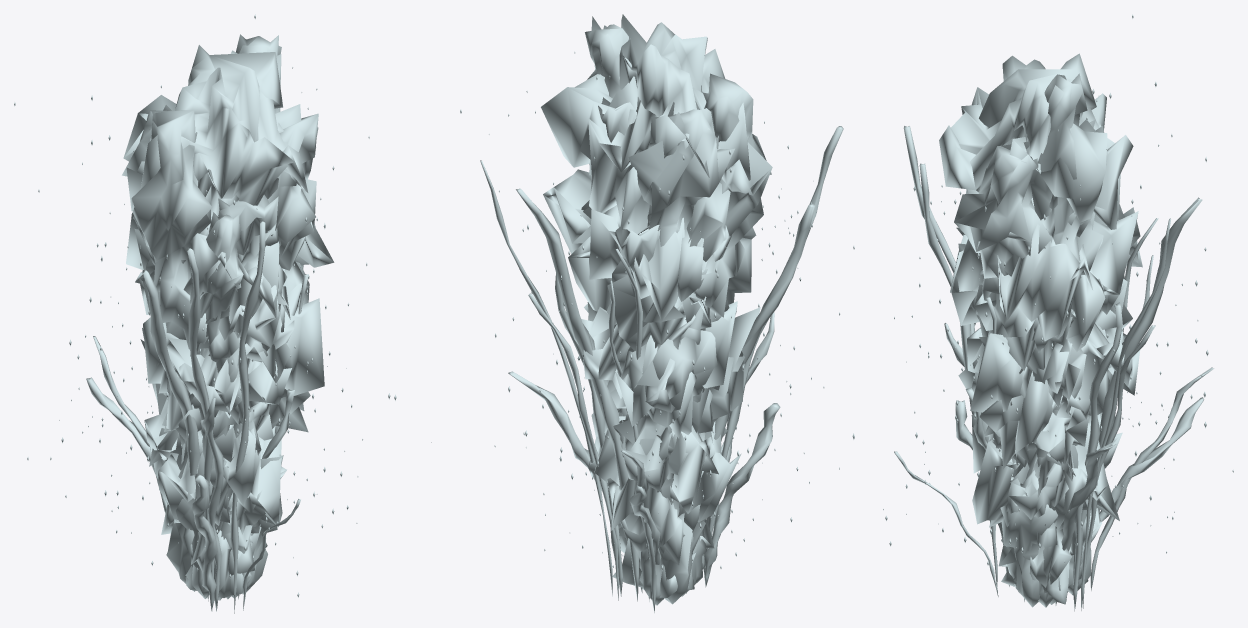
The model's file is shell-splash-peak.glb.
3 renders of one model, left to right at view 1: azimuth 30°, elevation 25°; view 2: azimuth 150°, elevation 25°; view 3: azimuth 270°, elevation 25°, orthographic. The views are drawn at different scales.
Visible parts, largest first — view 1: Shell water / deforming core, jets and drops; view 2: Shell water / deforming core, jets and drops; view 3: Shell water / deforming core, jets and drops.
Boxes of the visible parts, <box> form: Shell water / deforming core, jets and drops: <box>14,14,431,613</box>; Shell water / deforming core, jets and drops: <box>460,14,854,613</box>; Shell water / deforming core, jets and drops: <box>883,14,1233,611</box>.
Bounding box in the file's own units: 0.6019 × 0.9657 × 0.5633.
